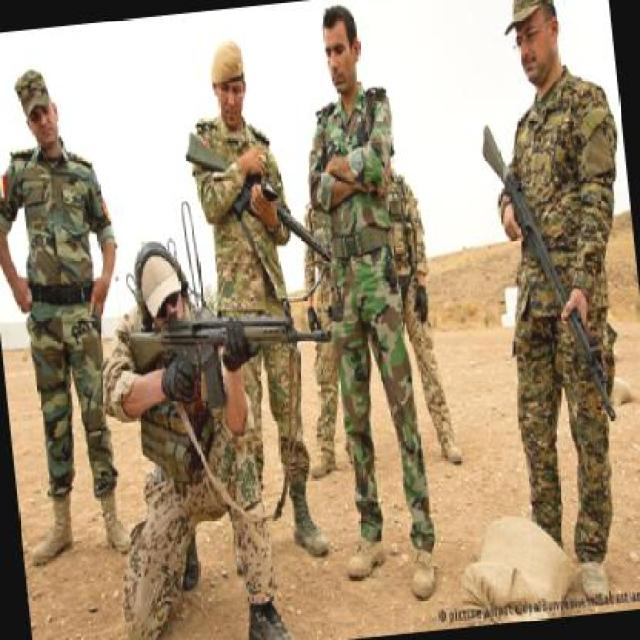MIL_Pax: (470, 0, 638, 602), (288, 0, 443, 608), (83, 227, 297, 638), (178, 28, 325, 570), (0, 60, 143, 569), (368, 124, 466, 485), (290, 182, 362, 481)
